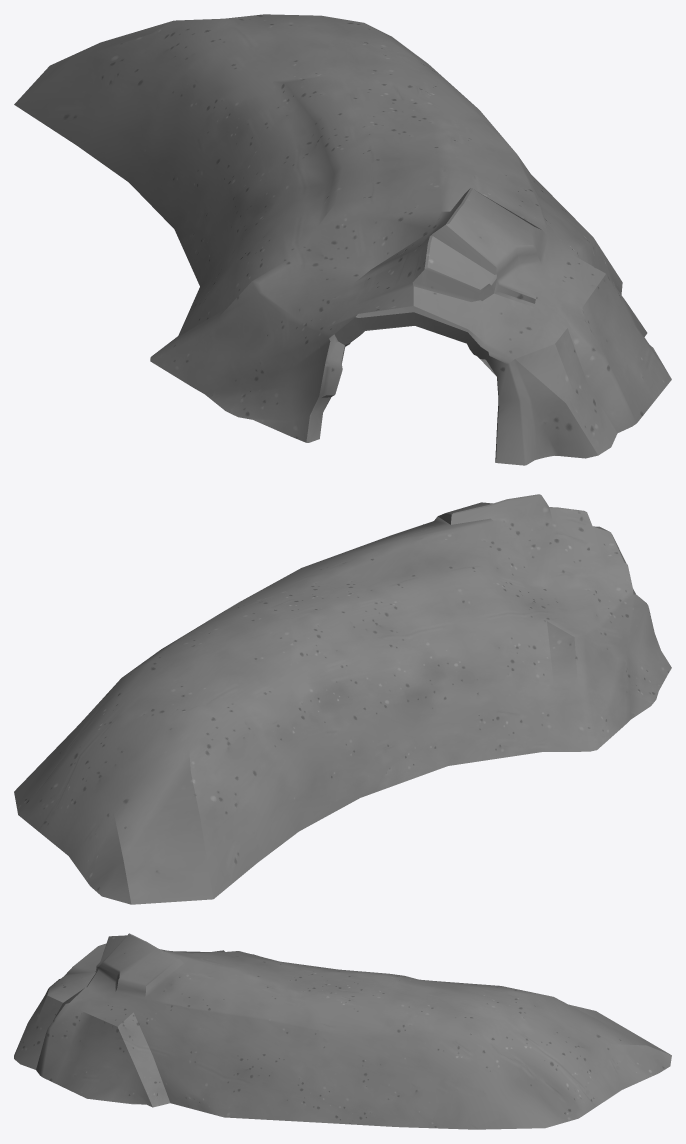
File: Magara.fbx
The picture shows the model from 3 angles, top to bottom: view 1: azimuth 30°, elevation 25°; view 2: azimuth 150°, elevation 25°; view 3: azimuth 270°, elevation 25°; orthographic projection. The views are drawn at different scales.
Parts seen in each view (by area): view 1: Magara; view 2: Magara; view 3: Magara.
Part boxes in pixels (left/top/right/bottom): Magara: left=14, top=14, right=671, bottom=465; Magara: left=14, top=494, right=671, bottom=904; Magara: left=14, top=933, right=671, bottom=1129.
Size of the model in its own units: 9.99 by 19.5 by 3.65.
